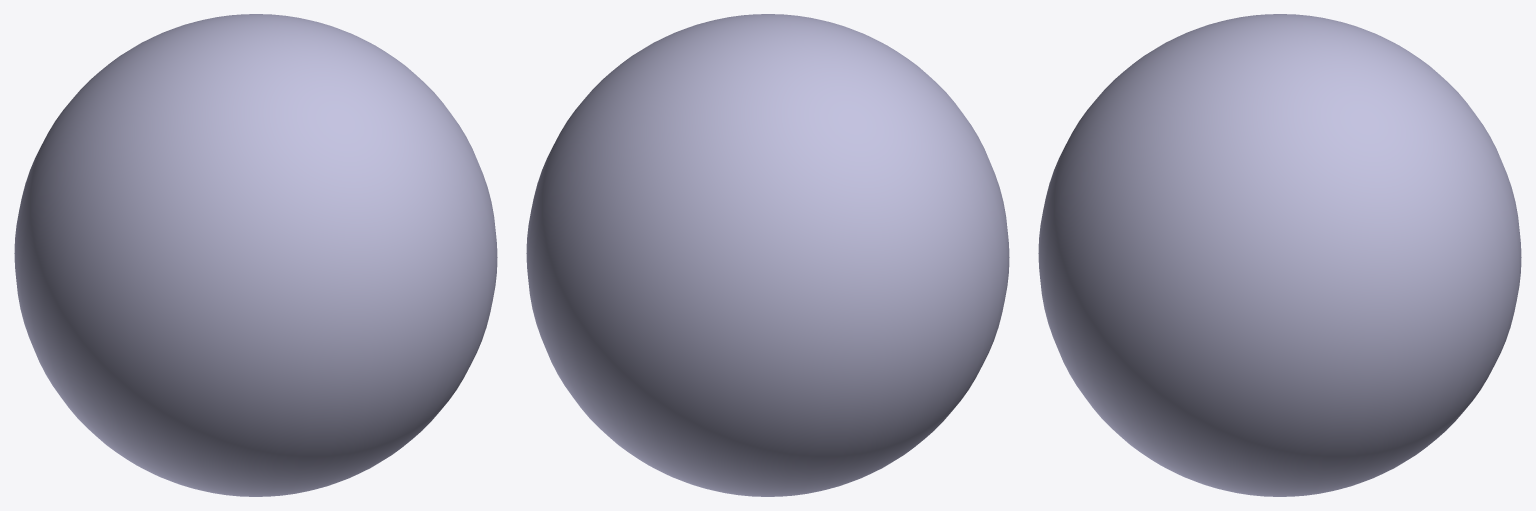
The model's file is glaskugel.glb.
3 views of the same model, side by side, from view 1: azimuth 30°, elevation 25°; view 2: azimuth 150°, elevation 25°; view 3: azimuth 270°, elevation 25° (orthographic).
Visible parts, largest first — view 1: Kugel; view 2: Kugel; view 3: Kugel.
Boxes of the visible parts, x1,y1,x2,y2 form: Kugel: [14, 14, 497, 496]; Kugel: [526, 14, 1009, 496]; Kugel: [1038, 14, 1521, 496].
Bounding box in the file's own units: 0.9195 × 0.9197 × 0.9195.
